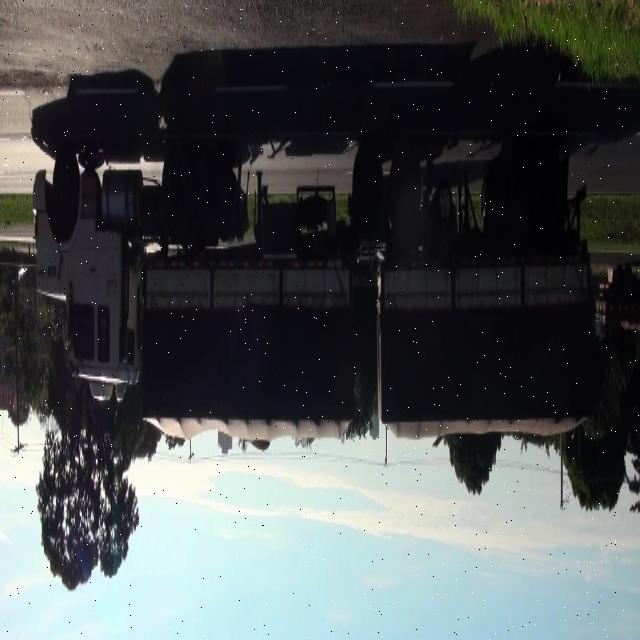-axle: (386, 148, 422, 226), (349, 148, 383, 228), (160, 146, 193, 228), (199, 153, 231, 235), (49, 156, 81, 235), (530, 159, 557, 236), (500, 164, 525, 244)
